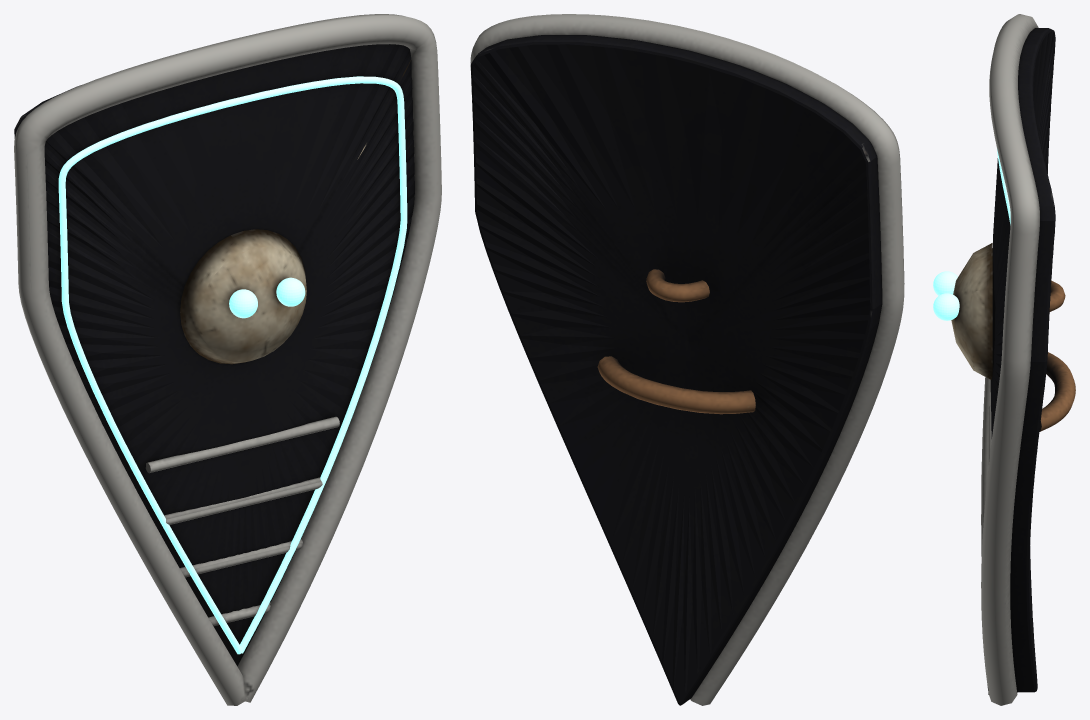
Rendered from arma_escudo_vigilia_morta.glb.
The picture shows the model from 3 angles, left to right: view 1: azimuth 30°, elevation 25°; view 2: azimuth 150°, elevation 25°; view 3: azimuth 270°, elevation 25°; orthographic projection. The views are drawn at different scales.
Visible parts, largest first — view 1: arma_escudo_vigilia_morta, aro_alma, Sphere.001, Sphere; view 2: arma_escudo_vigilia_morta; view 3: arma_escudo_vigilia_morta, Sphere.001, Sphere.
Boxes of the visible parts, x1,y1,x2,y2 form: arma_escudo_vigilia_morta: (14, 14, 441, 705); aro_alma: (58, 76, 407, 654); Sphere.001: (276, 277, 305, 306); Sphere: (229, 289, 257, 318); arma_escudo_vigilia_morta: (470, 14, 904, 705); arma_escudo_vigilia_morta: (951, 14, 1075, 705); Sphere.001: (933, 293, 959, 320); Sphere: (933, 271, 957, 295).
Bounding box in the file's own units: 0.5338 × 0.8023 × 0.165.
4 materials, 1 textured.
